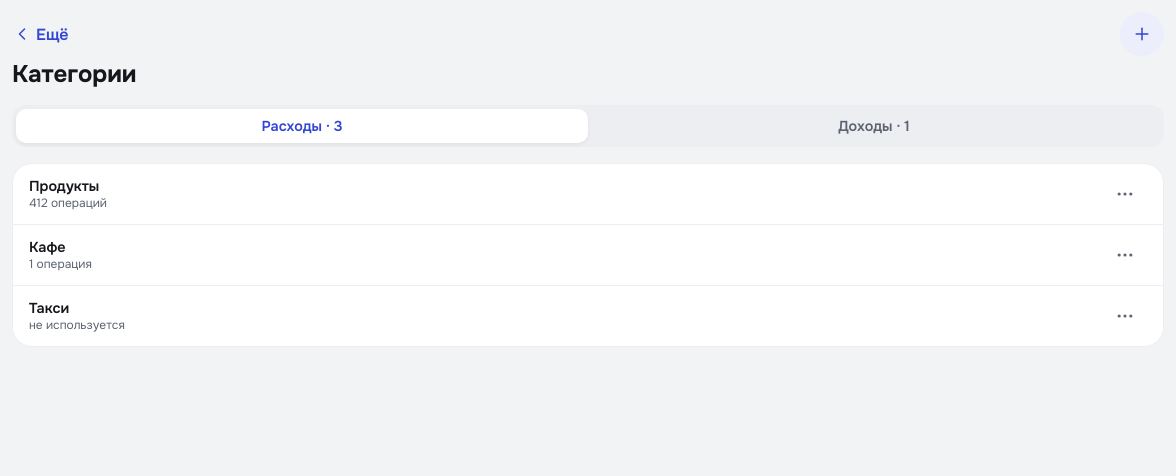
Scenario: CategoriesScreen › rename › omits the operation count for an unused category
The width and height of the screenshot is (1176, 476).
Click the button named "Действия: Такси" at point(1125, 316), box x1=1103 y1=294 x2=1147 y2=338
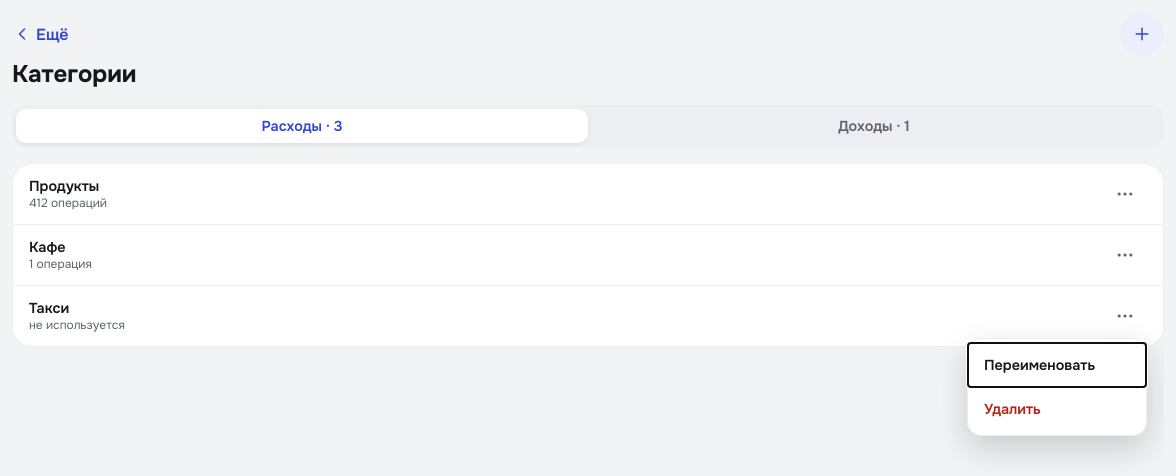
Click the menu item "Переименовать" at point(1057, 365), box x1=968 y1=343 x2=1146 y2=387
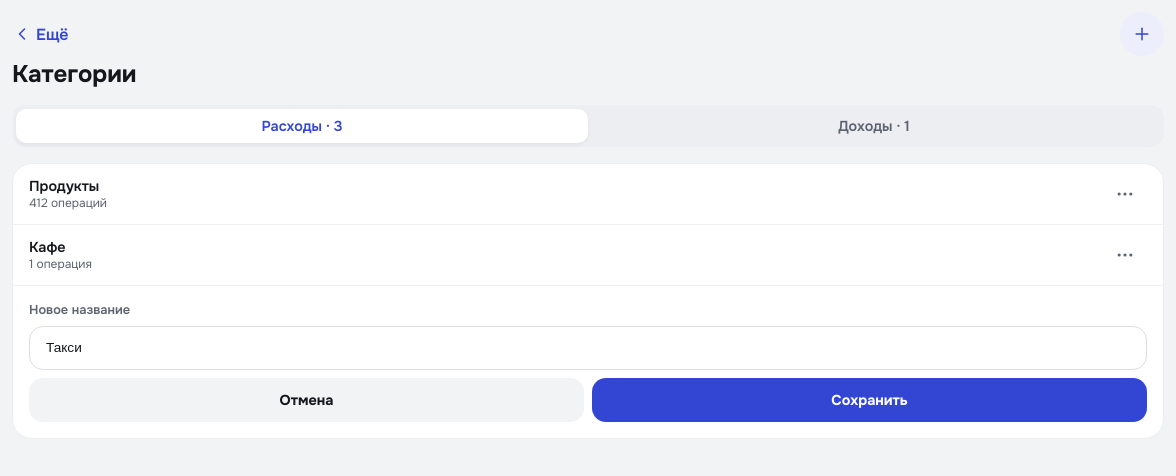
Expected: the field labelled "Новое название" holds "Такси", x1=29 y1=326 x2=1147 y2=370
